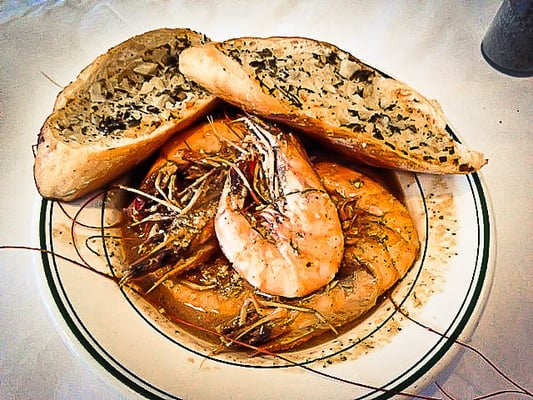pasta: (178, 35, 486, 177)
soup: (32, 27, 219, 203)
